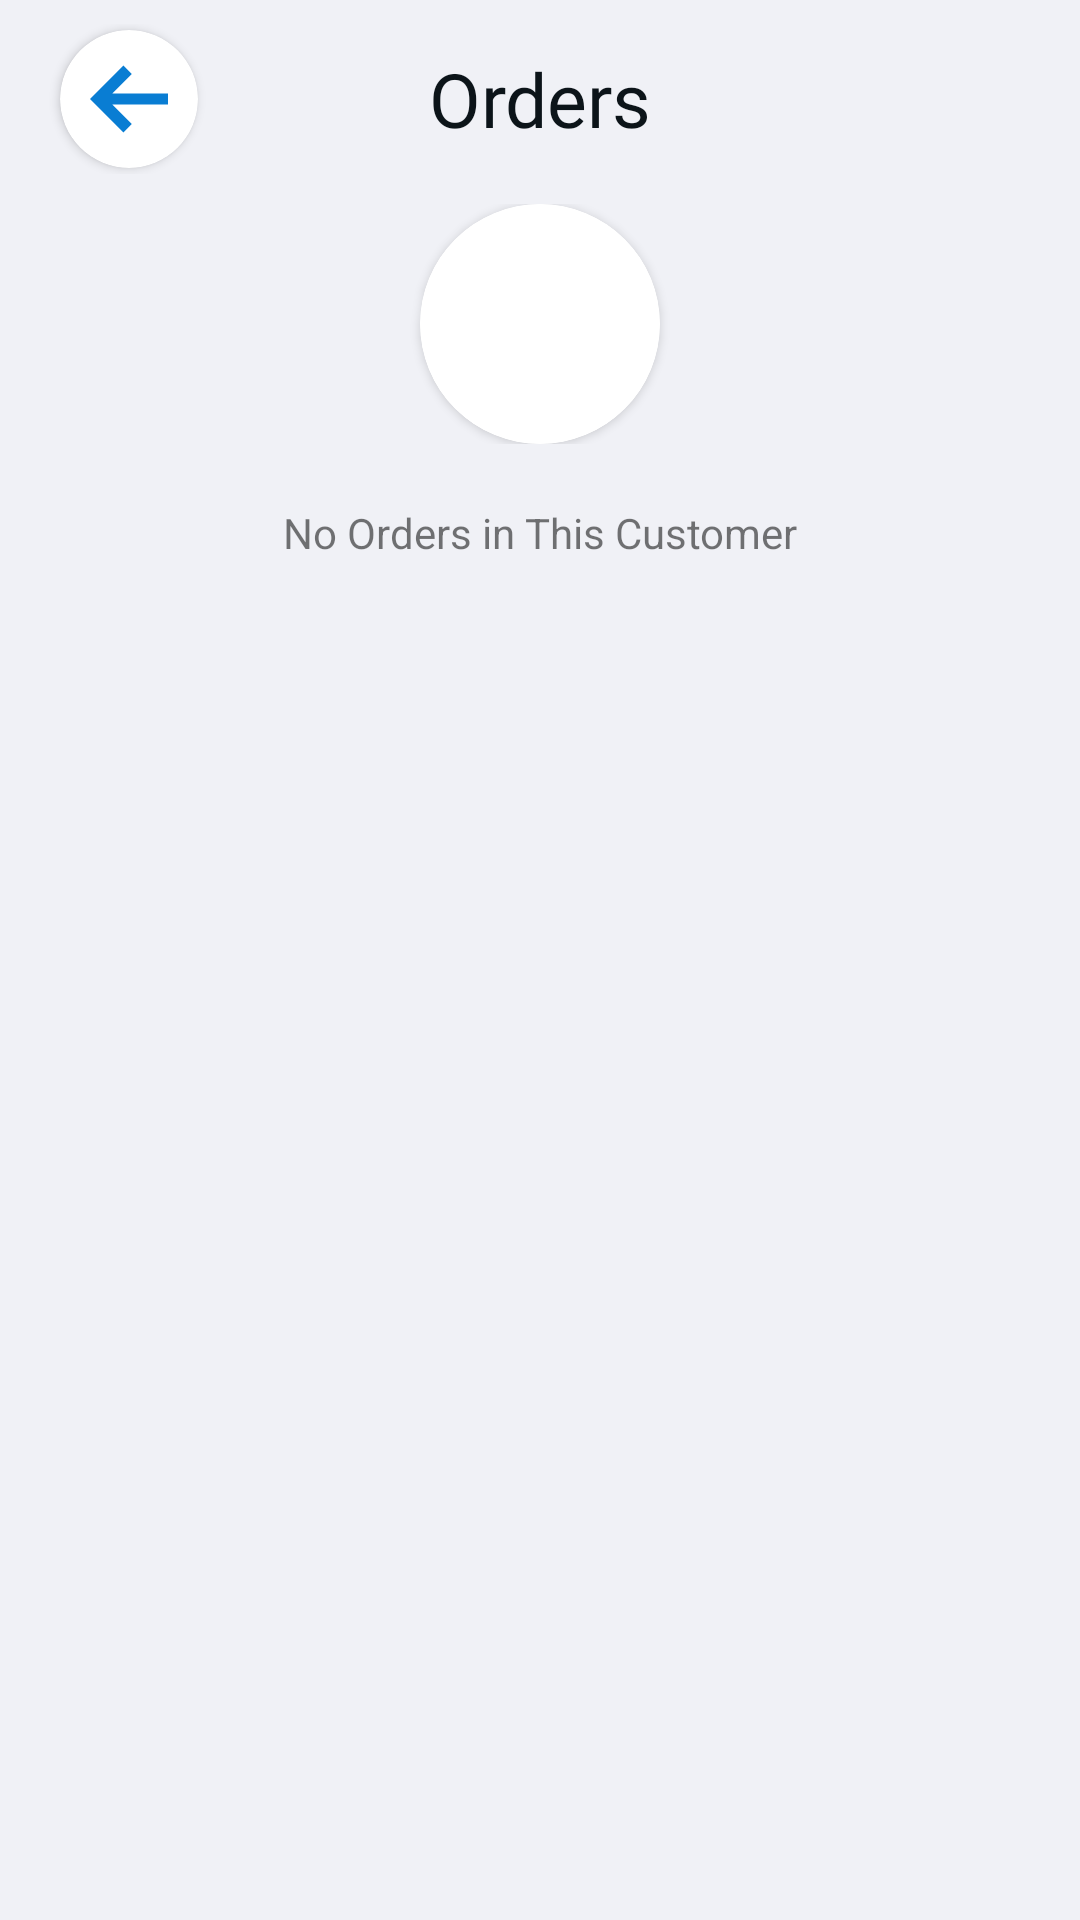

Icon click points for this 1080px×1920px phone screenshot, format [x,y]:
left arrow: [129,99]
